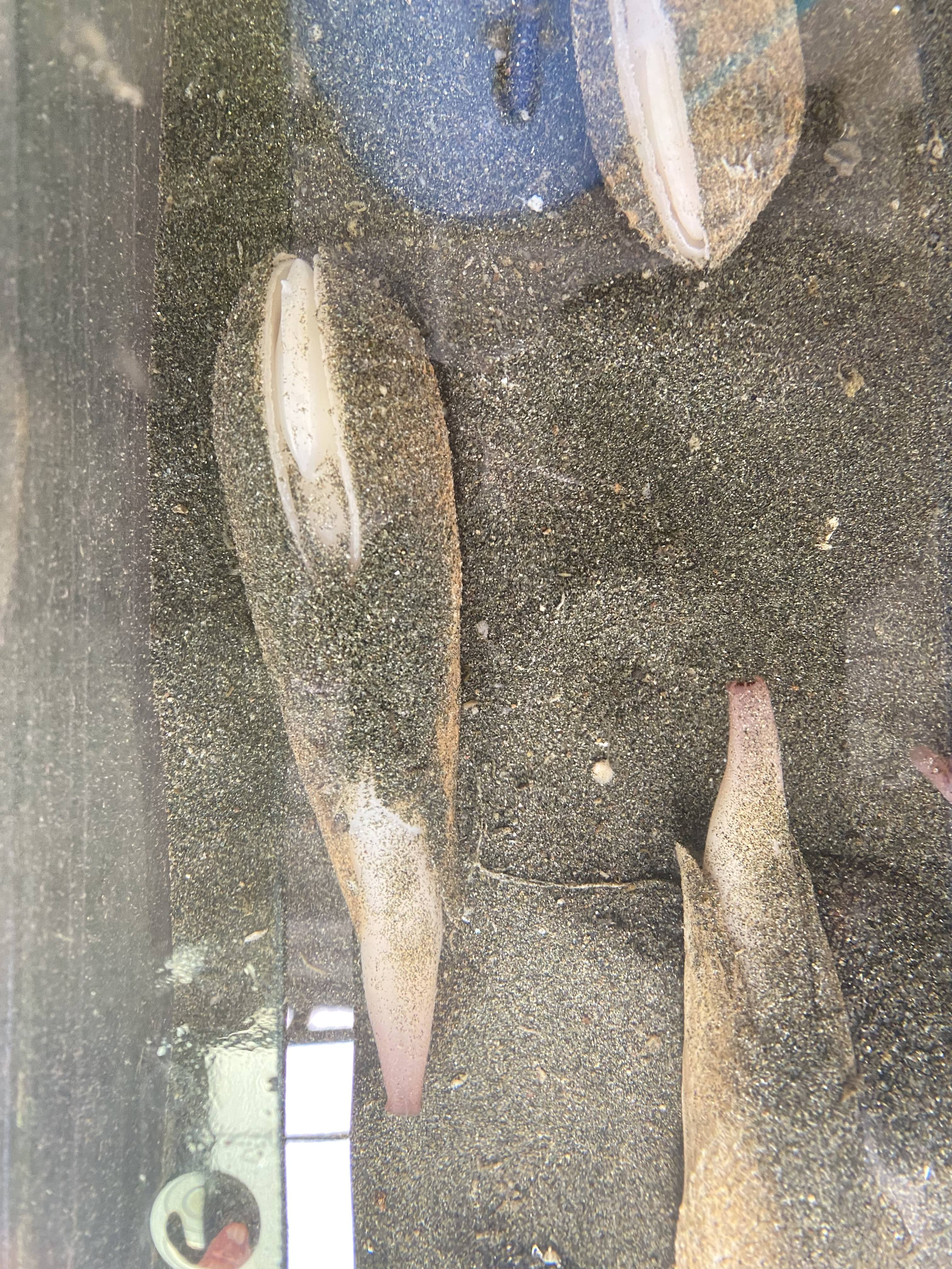Healthy: (213, 251, 461, 1114), (676, 678, 897, 1269)
